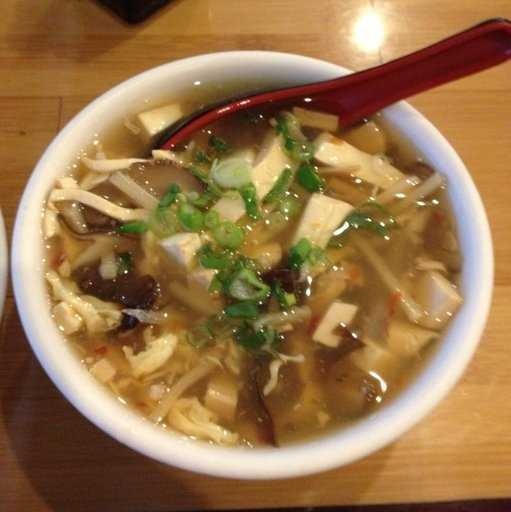soup: (74, 84, 437, 420)
